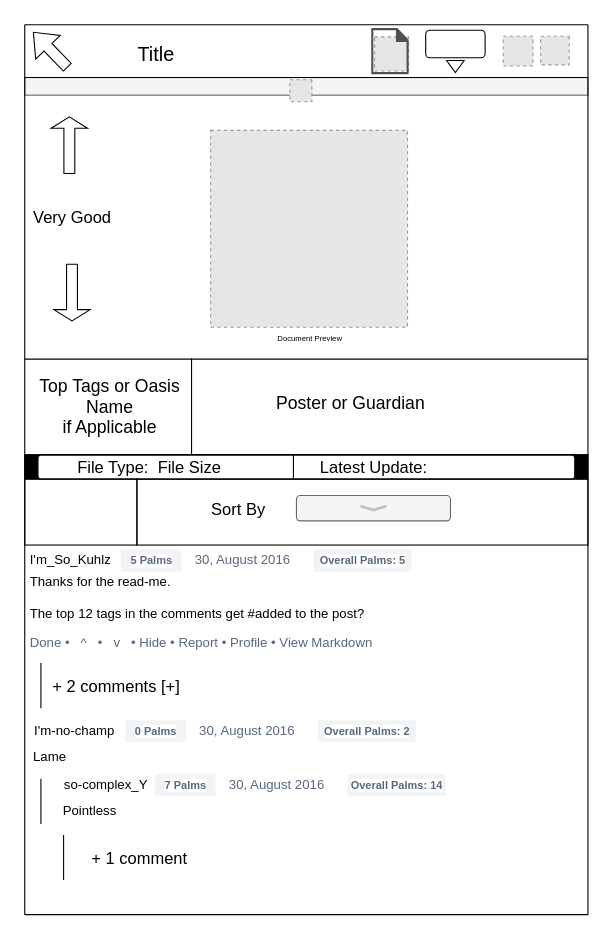
The diagram is 613 pixels wide and 939 high, and some of its shapes have lost their labels. Grey dashed boxes stand in for pictures. Each missing label, with the box of its shape:
Comments (#): (24, 478, 137, 545)
Random Text Goes here: (425, 29, 485, 58)
